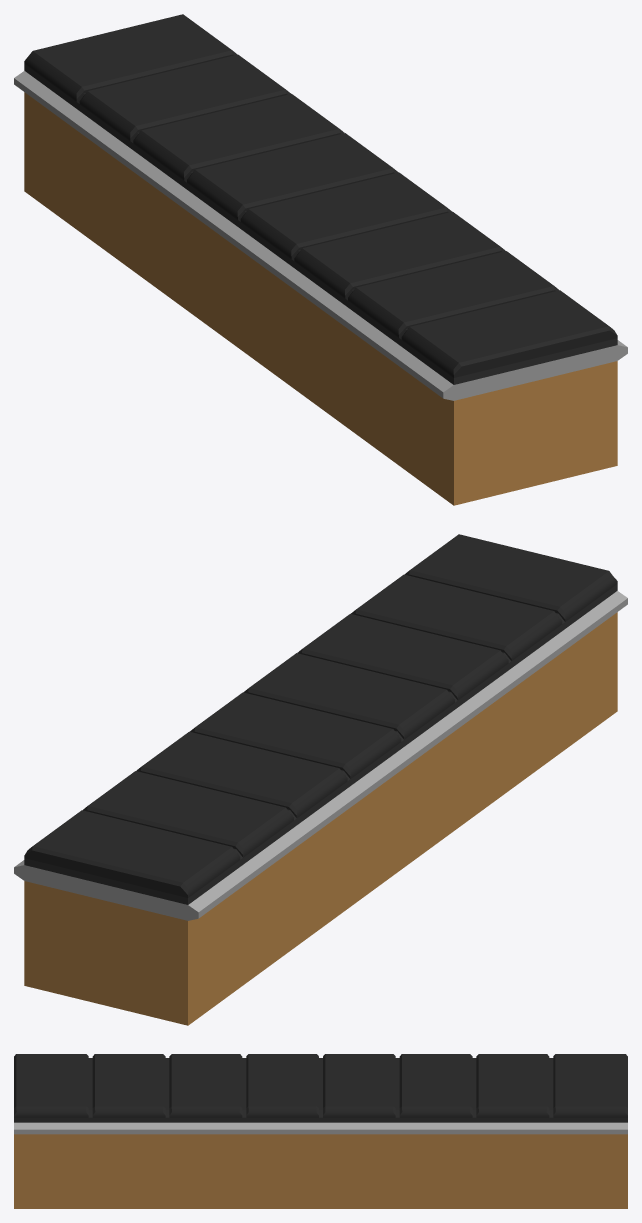
File: Coincraft_Conveyor_Belt_01.fbx
3 views of the same model, one above another, from view 1: azimuth 30°, elevation 25°; view 2: azimuth 150°, elevation 25°; view 3: azimuth 270°, elevation 25° (orthographic). The views are drawn at different scales.
Visible parts, largest first — view 1: Belt, Base; view 2: Belt, Base; view 3: Base, Belt.
Boxes of the visible parts, x1,y1,x2,y2 form: Belt: (24, 14, 617, 384); Base: (14, 71, 627, 505); Belt: (24, 534, 617, 904); Base: (14, 591, 627, 1025); Base: (14, 1122, 627, 1208); Belt: (14, 1054, 627, 1122).
Bounding box in the file's own units: 99.31 × 72.03 × 400.
